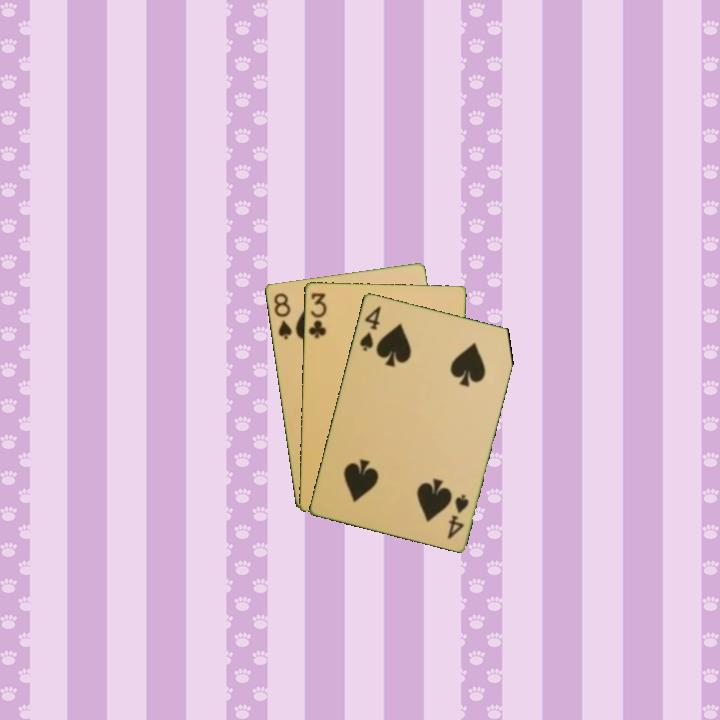3c: (305, 289, 329, 341)
4s: (356, 302, 383, 353), (444, 490, 471, 541)
8s: (270, 289, 294, 342)
